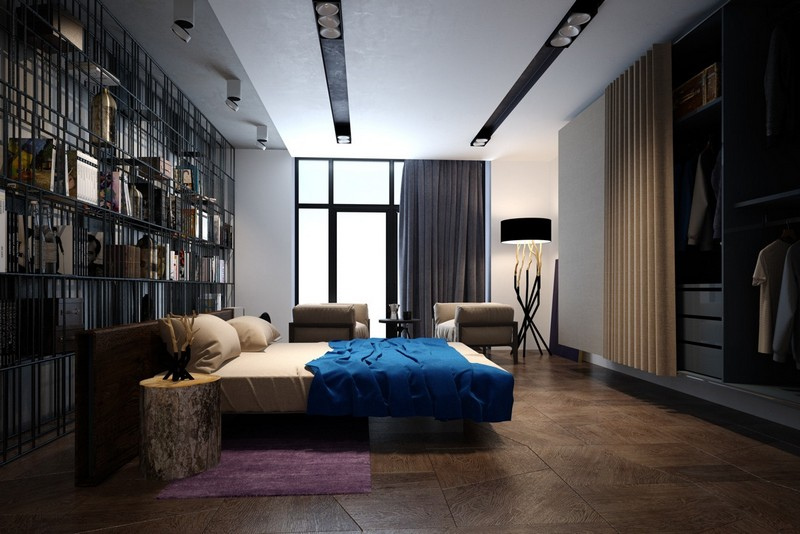bed: (98, 322, 516, 447)
lamp: (499, 213, 555, 363)
sofa: (432, 302, 519, 354), (286, 301, 377, 350)
stool: (137, 368, 225, 487), (379, 315, 422, 338)
